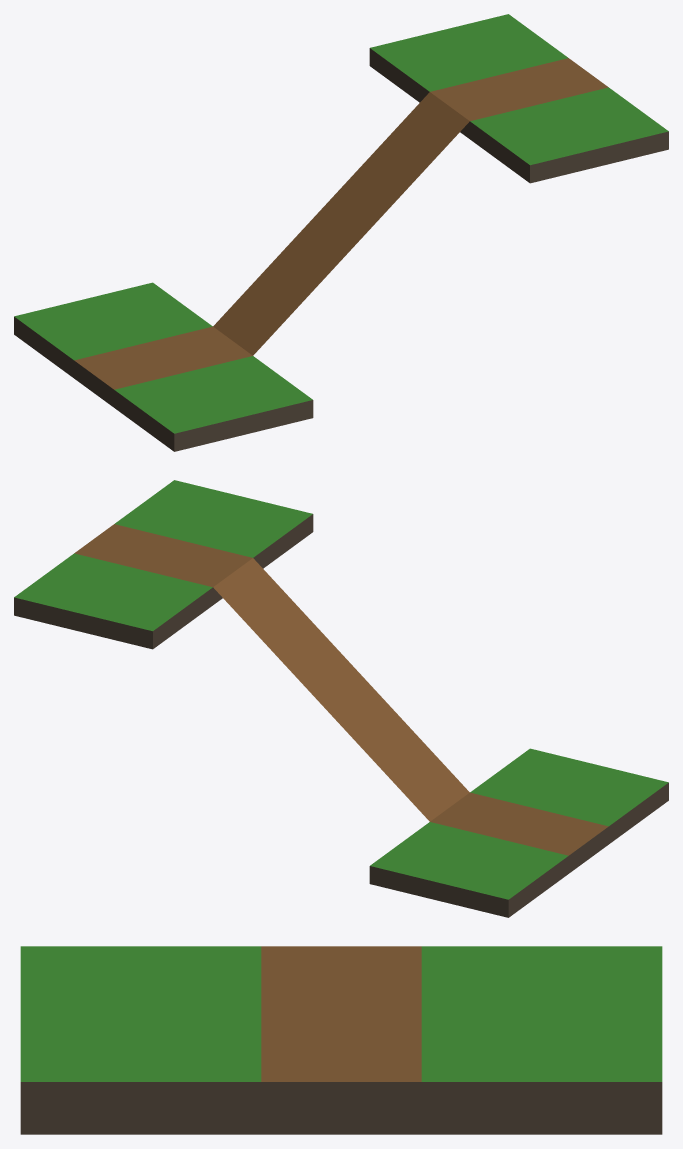
File: terrain_ramp_rotated_orientation.obj
The picture shows the model from 3 angles, top to bottom: view 1: azimuth 30°, elevation 25°; view 2: azimuth 150°, elevation 25°; view 3: azimuth 270°, elevation 25°; orthographic projection. The views are drawn at different scales.
Parts seen in each view (by area): view 1: terrain_ramp_rotated_orientation; view 2: terrain_ramp_rotated_orientation; view 3: terrain_ramp_rotated_orientation.
Boxes of the visible parts, x1,y1,x2,y2 form: terrain_ramp_rotated_orientation: (14, 14, 668, 451); terrain_ramp_rotated_orientation: (14, 480, 668, 917); terrain_ramp_rotated_orientation: (20, 946, 662, 1134).
Bounding box in the file's own units: 14.24 × 5.5 × 8.
